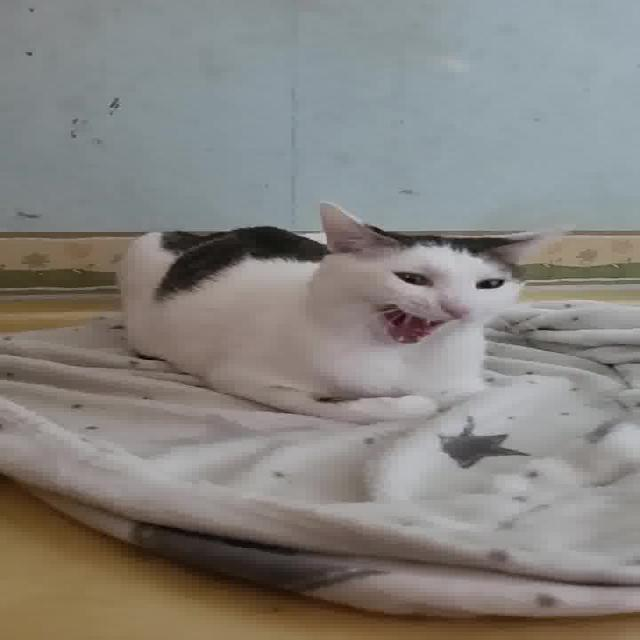cat: (111, 196, 580, 426)
